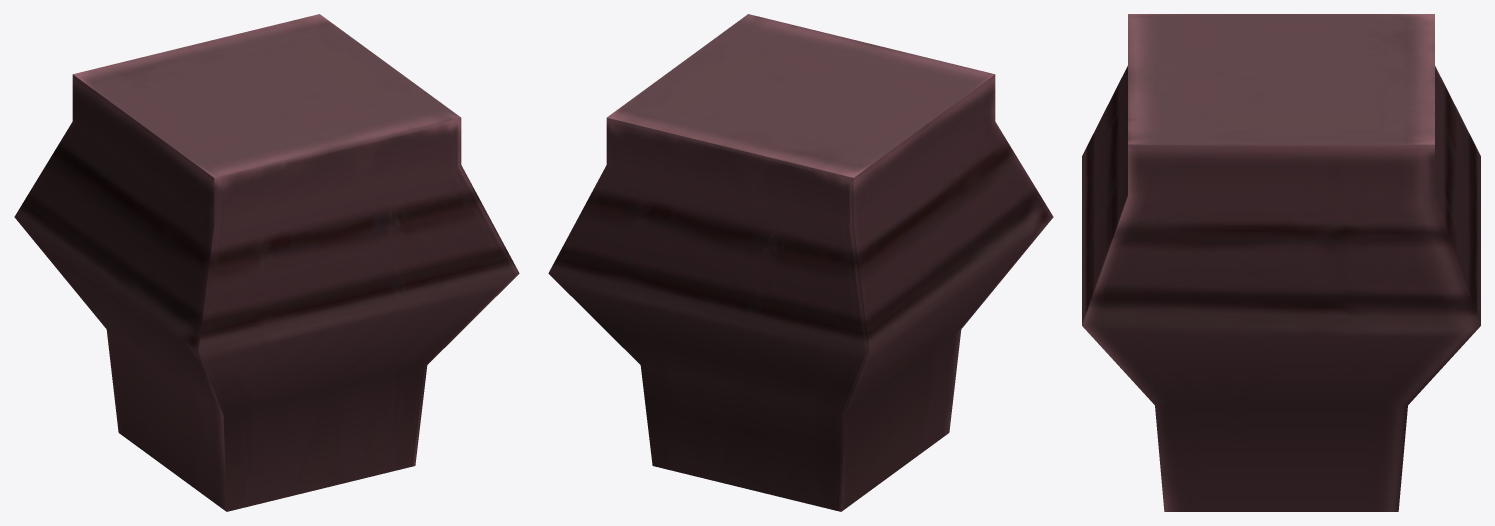
The model's file is mig_wall_up.FBX.
The picture shows the model from 3 angles, left to right: view 1: azimuth 30°, elevation 25°; view 2: azimuth 150°, elevation 25°; view 3: azimuth 270°, elevation 25°; orthographic projection. The views are drawn at different scales.
Parts seen in each view (by area): view 1: mig_wall_up; view 2: mig_wall_up; view 3: mig_wall_up.
Part boxes in pixels (left/top/right/bottom): mig_wall_up: left=14, top=14, right=519, bottom=511; mig_wall_up: left=548, top=14, right=1053, bottom=511; mig_wall_up: left=1082, top=14, right=1480, bottom=511.
Size of the model in its own units: 39.28 by 41.3 by 39.
